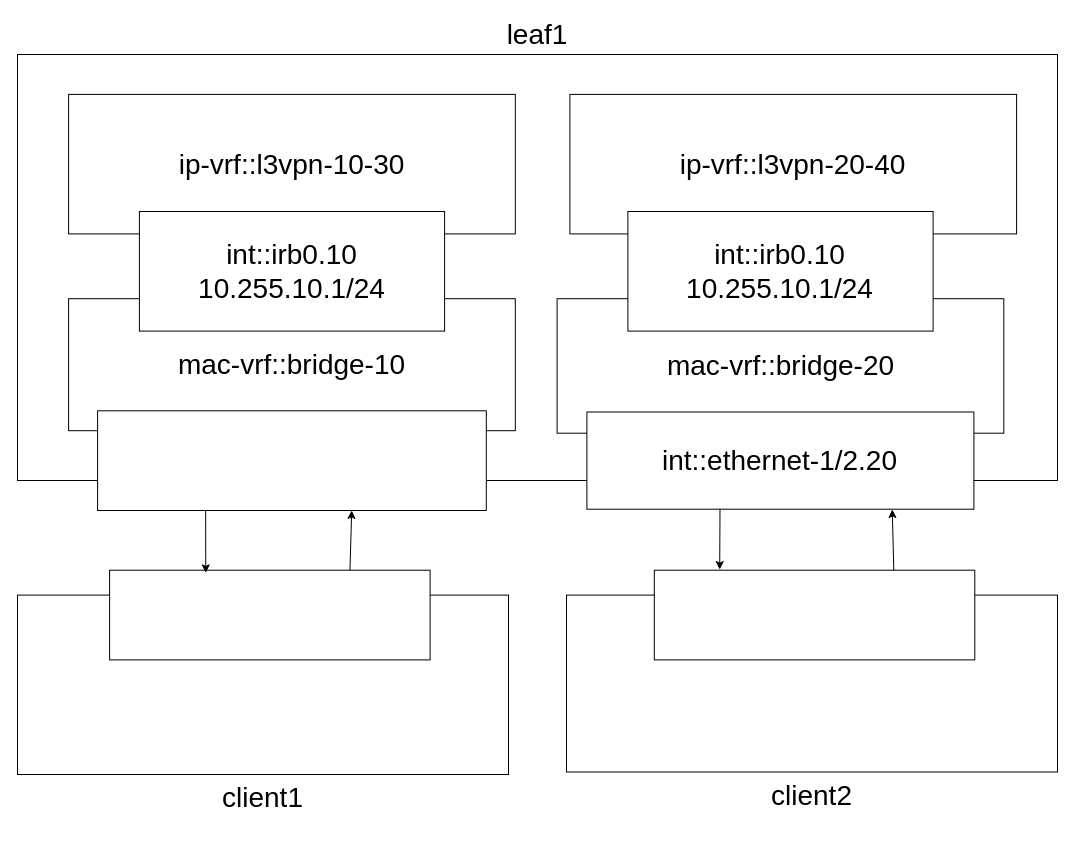
Image size: 1075x865. Some labels were removed from this diagram. Each missing label, with the centre of its shape:
int::eth1 10.255.10.11/24: [269,614]
int::eth1 10.255.20.12/24: [814,614]
int::ethernet-1/1.10: [291,460]
